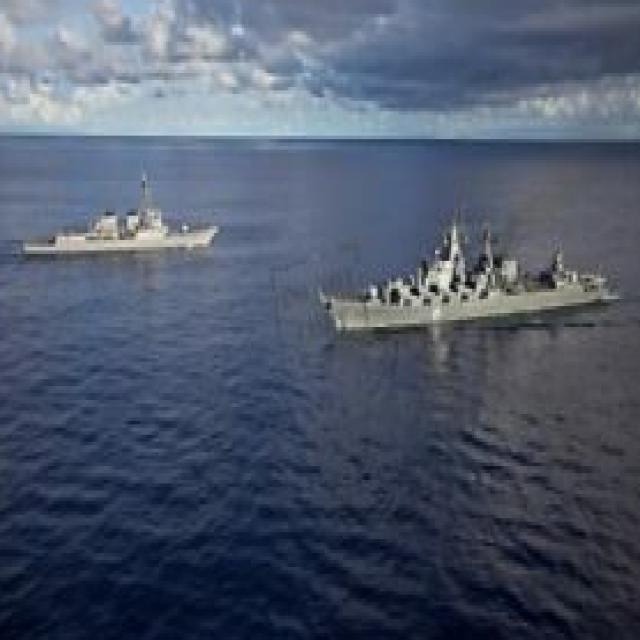navalvessels: (327, 206, 623, 333), (22, 181, 220, 269)
